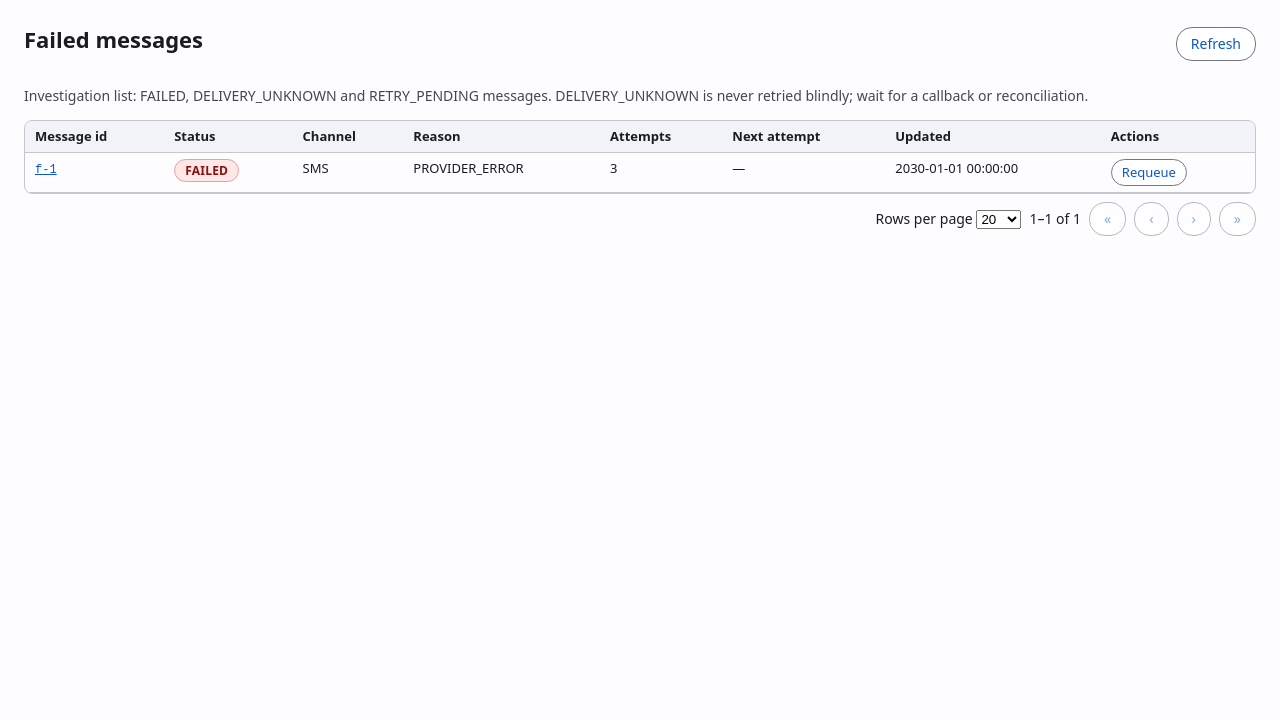
Test: failed messages › requeue confirms then POSTs
Click the button "Requeue". click: (1149,172)
box: 1111,159 -> 1187,186
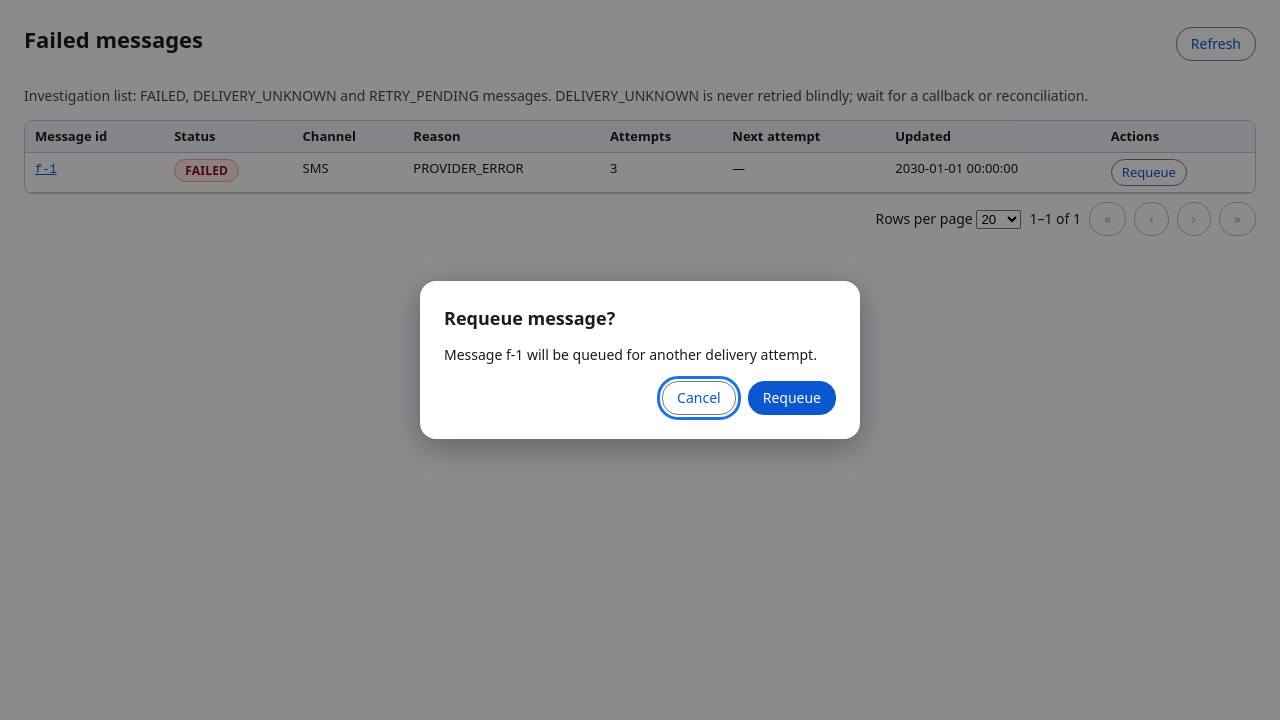
Click the button "Requeue". click: (792,398)
box: 748,381 -> 836,415
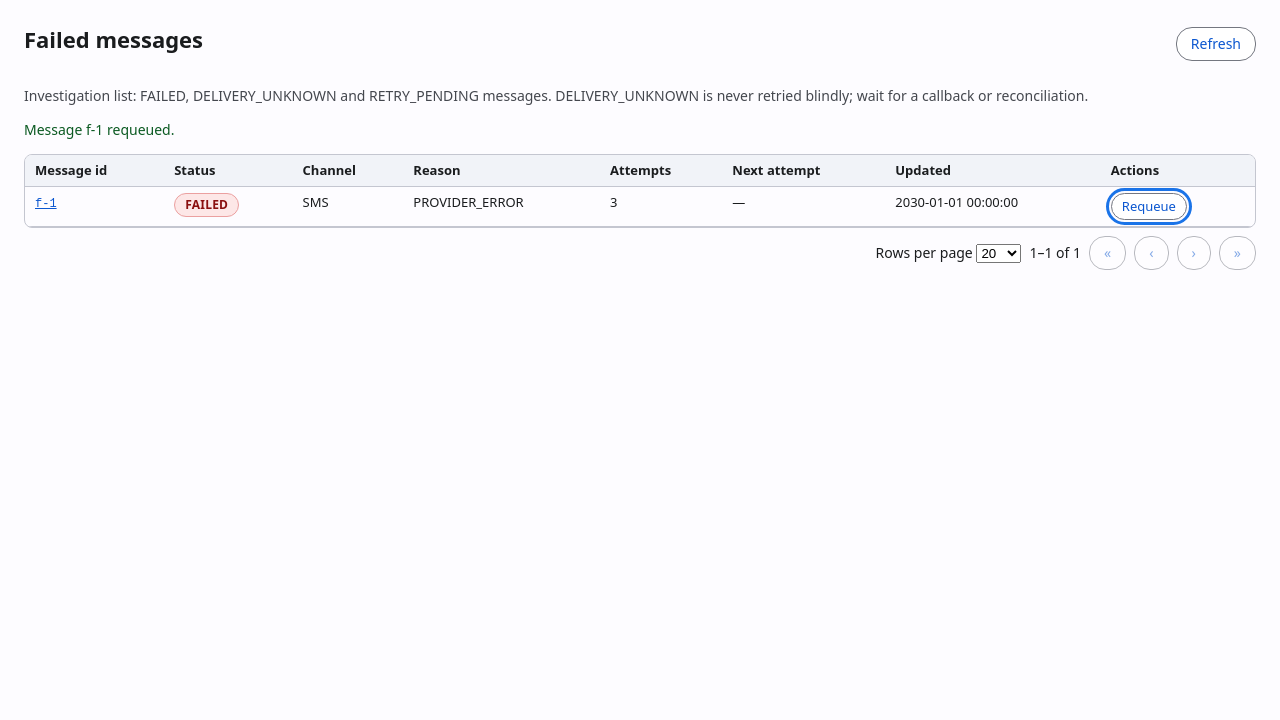
Expected: the text "Message f-1 requeued." is shown, 24,120 -> 174,139
